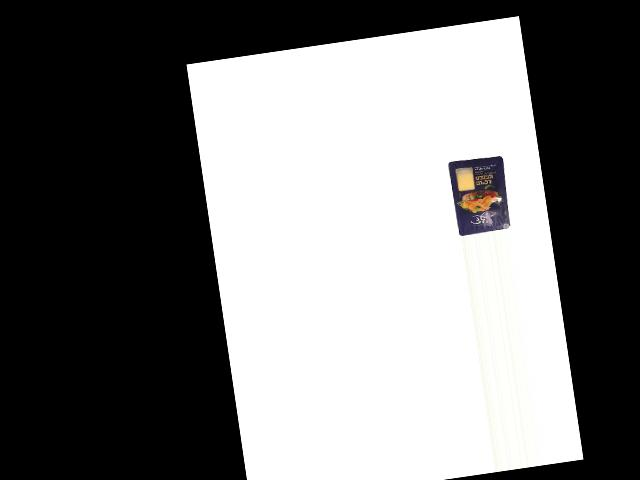cheese: (448, 153, 514, 237)
